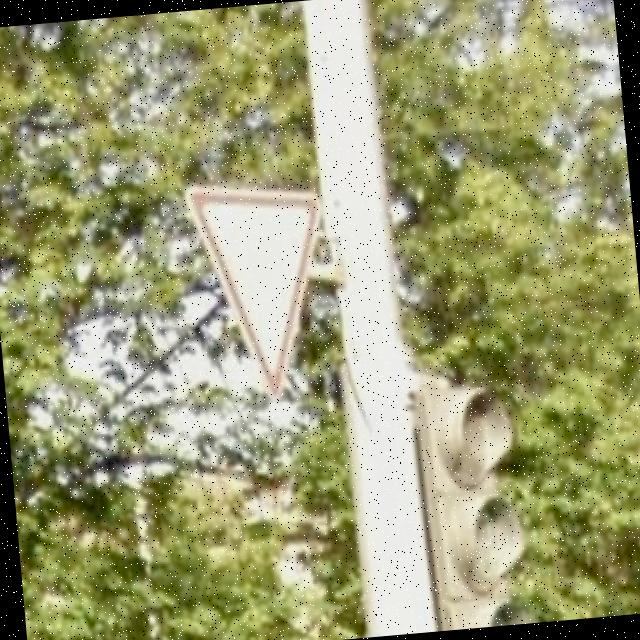Ustap pierwszenstwa: (176, 169, 346, 411)
